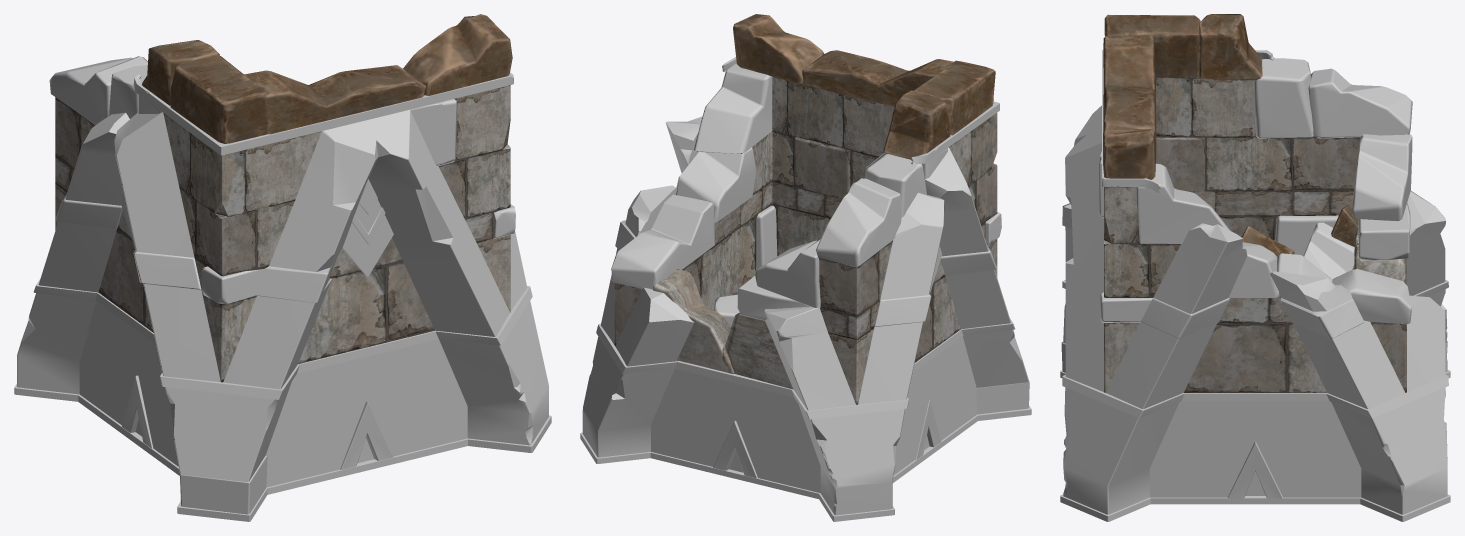
The picture shows the model from 3 angles, left to right: view 1: azimuth 30°, elevation 25°; view 2: azimuth 150°, elevation 25°; view 3: azimuth 270°, elevation 25°; orthographic projection. The views are drawn at different scales.
Visible parts, largest first — view 1: SM_DK_8m_TowerMid_01_LOD0; view 2: SM_DK_8m_TowerMid_01_LOD0; view 3: SM_DK_8m_TowerMid_01_LOD0.
Boxes of the visible parts, <box> form: SM_DK_8m_TowerMid_01_LOD0: <box>14,14,551,521</box>; SM_DK_8m_TowerMid_01_LOD0: <box>580,14,1031,521</box>; SM_DK_8m_TowerMid_01_LOD0: <box>1060,14,1450,521</box>.
Bounding box in the file's own units: 5.8 × 5.98 × 5.8.
